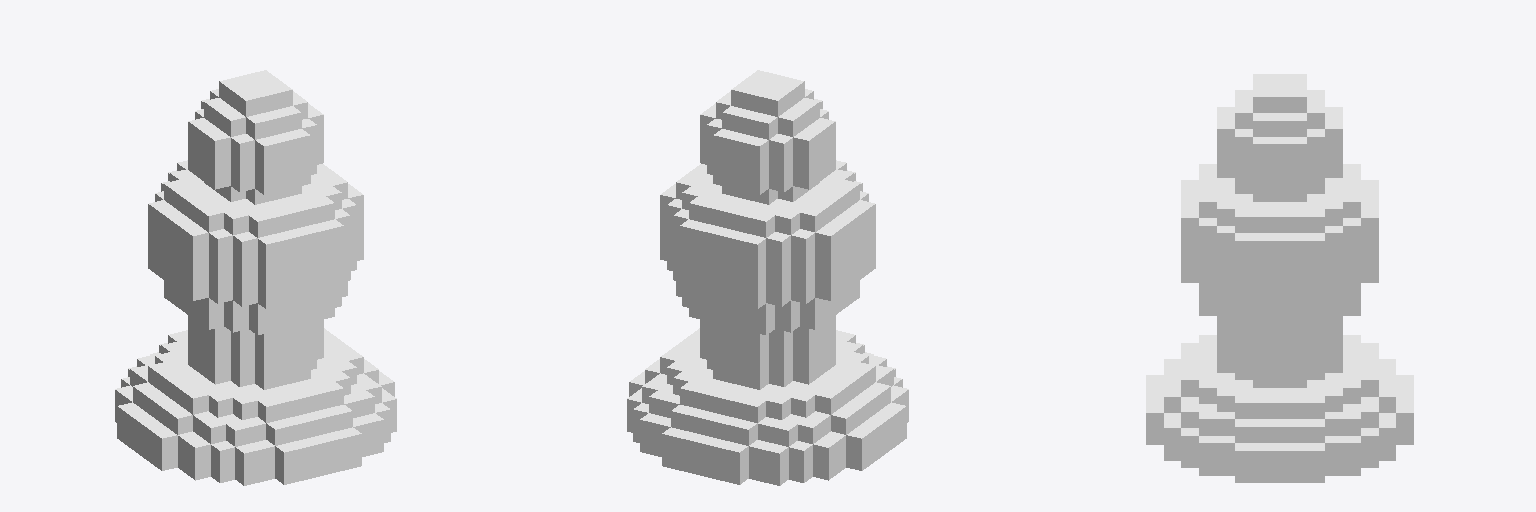
The model's file is PawnB.obj.
3 views of the same model, side by side, from view 1: azimuth 30°, elevation 25°; view 2: azimuth 150°, elevation 25°; view 3: azimuth 270°, elevation 25° (orthographic).
Visible parts, largest first — view 1: object 1; view 2: object 1; view 3: object 1.
Part boxes in pixels (left/top/right/bottom): object 1: left=115, top=70, right=396, bottom=485; object 1: left=627, top=70, right=908, bottom=485; object 1: left=1146, top=74, right=1413, bottom=482.
Bounding box in the file's own units: 1.5 × 2.1 × 1.5.